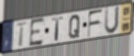E: (28, 17, 46, 49)
F: (87, 8, 104, 39)
Q: (68, 14, 82, 40)
T: (15, 21, 29, 48), (51, 16, 64, 43)
U: (103, 5, 121, 36)
